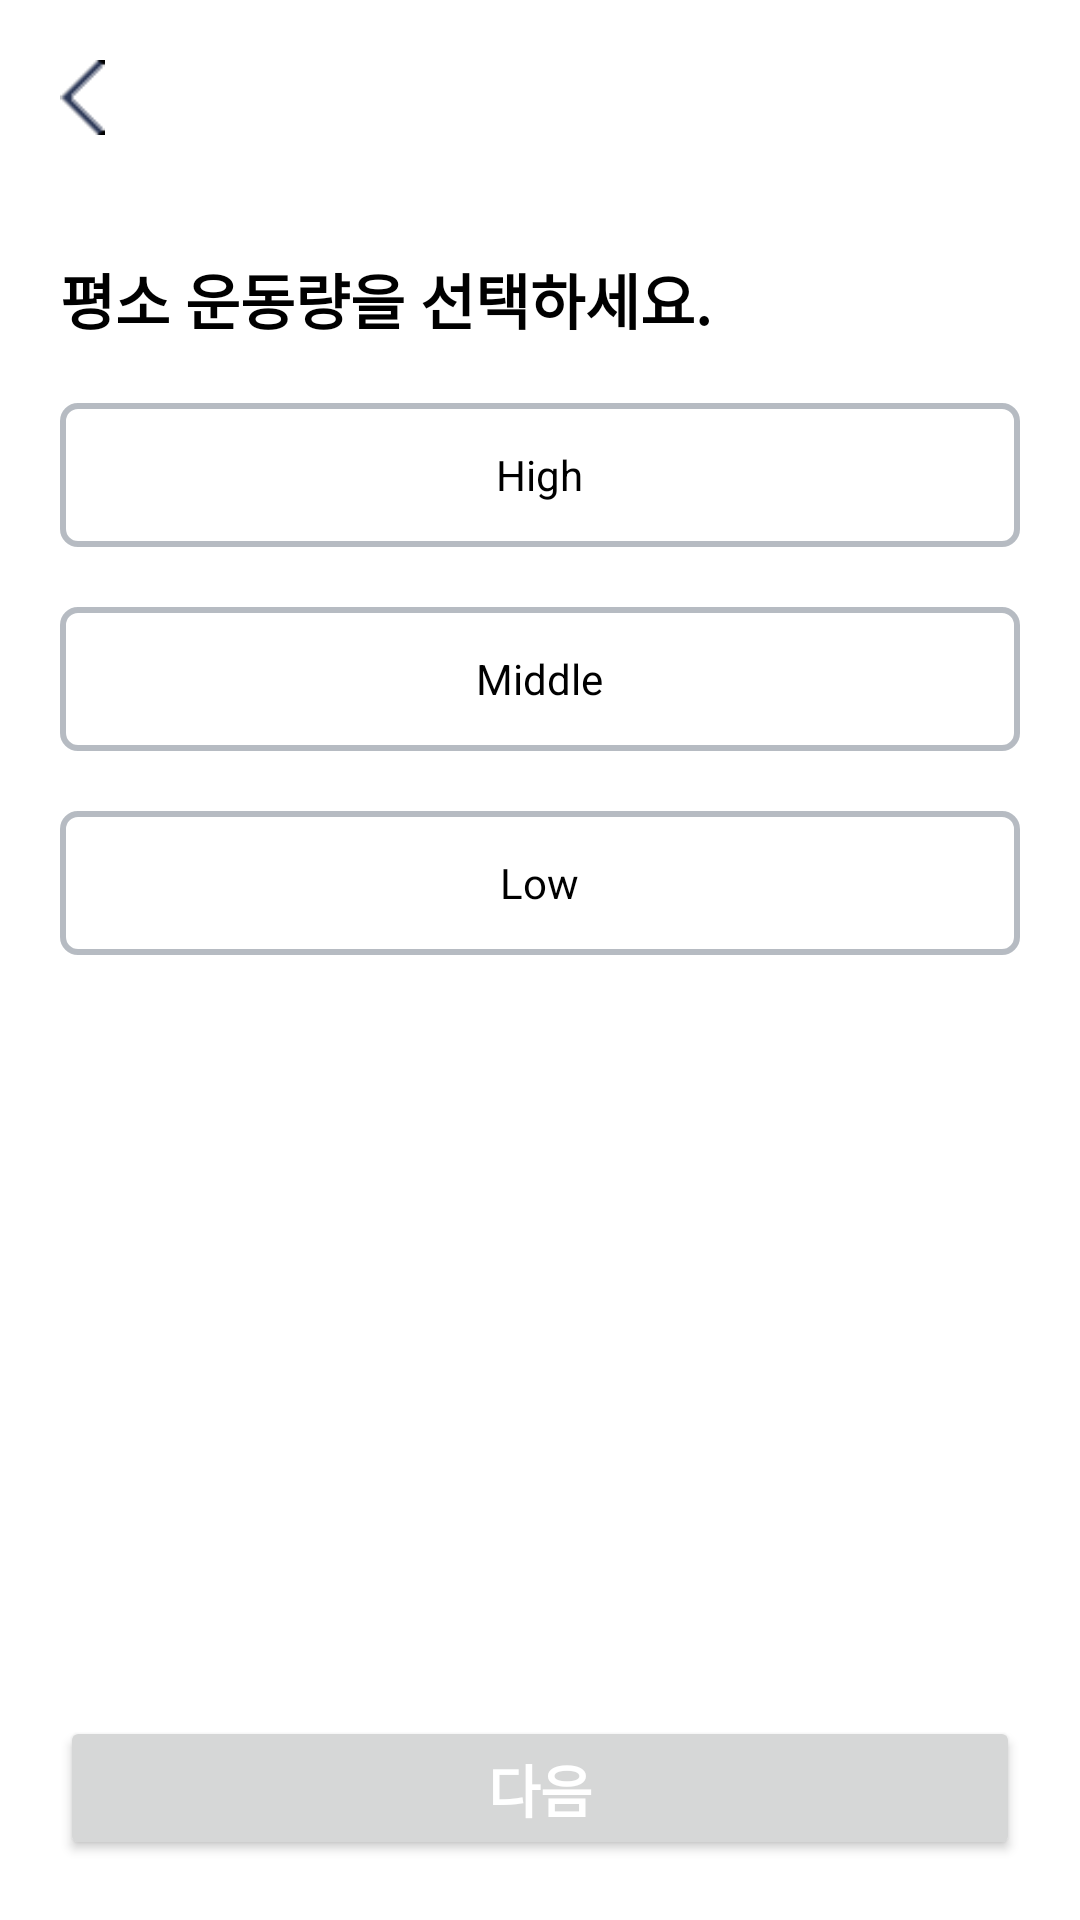

Screen size 1080w x 1920h. Icon name, then its center in pixels as [x,y]:
backarrow: [82,97]
